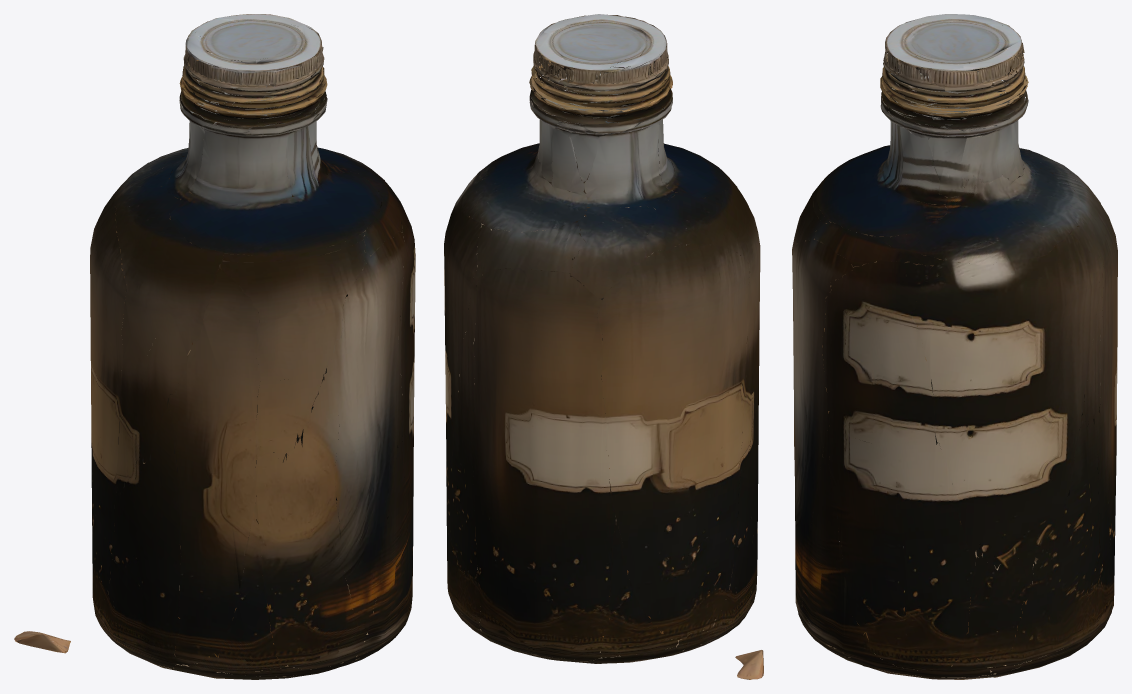
Rendered from prop-solvent-bottle.glb.
3 renders of one model, left to right at view 1: azimuth 30°, elevation 25°; view 2: azimuth 150°, elevation 25°; view 3: azimuth 270°, elevation 25°, orthographic. The views are drawn at different scales.
Parts seen in each view (by area): view 1: prop-solvent-bottle; view 2: prop-solvent-bottle; view 3: prop-solvent-bottle.
Part boxes in pixels (left/top/right/bottom): prop-solvent-bottle: left=14, top=14, right=415, bottom=679; prop-solvent-bottle: left=444, top=14, right=763, bottom=679; prop-solvent-bottle: left=792, top=14, right=1117, bottom=679.
Size of the model in its own units: 0.35 by 0.5656 by 0.2885.
Materials: 1 (1 with a texture image).
